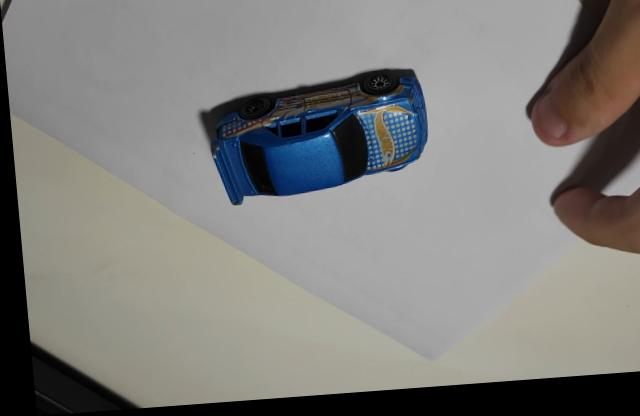04_MERZEDES: (199, 72, 426, 208)
